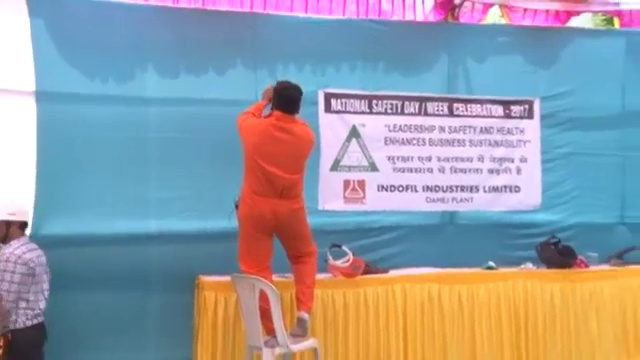helmet: (1, 199, 31, 226)
helmet_off: (270, 78, 305, 115)
helmet_on: (1, 198, 30, 246)
person: (238, 78, 318, 336), (1, 197, 56, 360)
